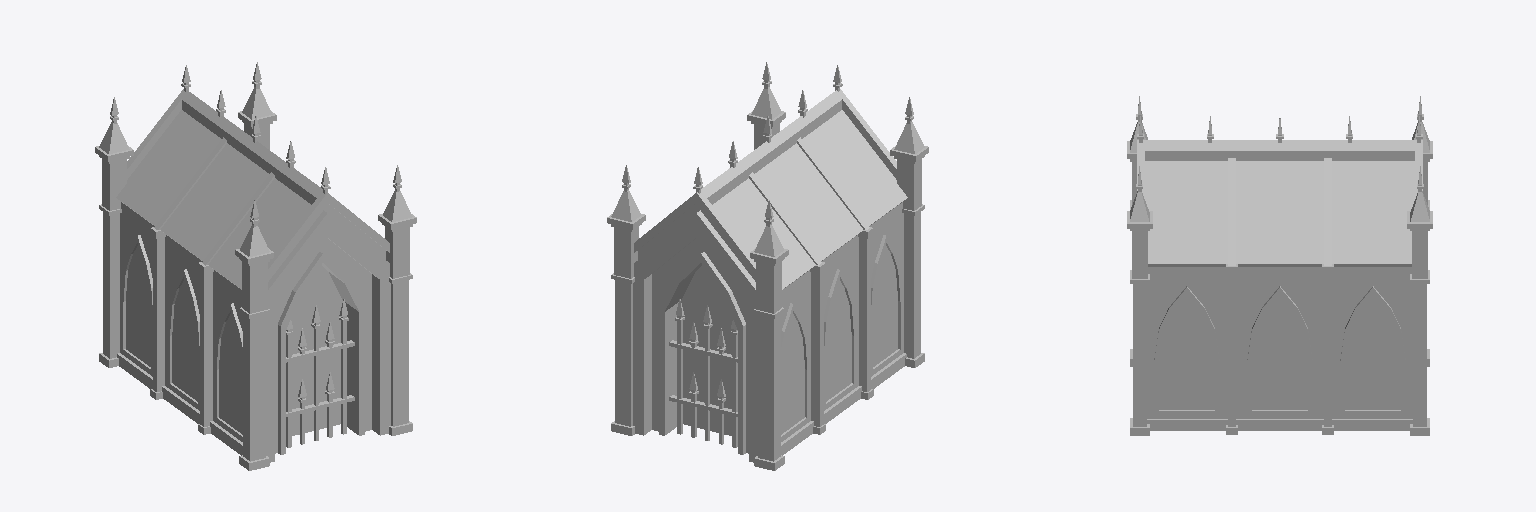
The model's file is crypt.obj.
3 views of the same model, side by side, from view 1: azimuth 30°, elevation 25°; view 2: azimuth 150°, elevation 25°; view 3: azimuth 270°, elevation 25° (orthographic).
Visible parts, largest first — view 1: Crypt_3_Mesh.007; view 2: Crypt_3_Mesh.007; view 3: Crypt_3_Mesh.007.
Boxes of the visible parts, x1=… form: Crypt_3_Mesh.007: x1=95, y1=62, x2=416, y2=470; Crypt_3_Mesh.007: x1=607, y1=62, x2=928, y2=470; Crypt_3_Mesh.007: x1=1127, y1=96, x2=1432, y2=435.
Size of the model in its own units: 1.59 by 2.53 by 2.5.